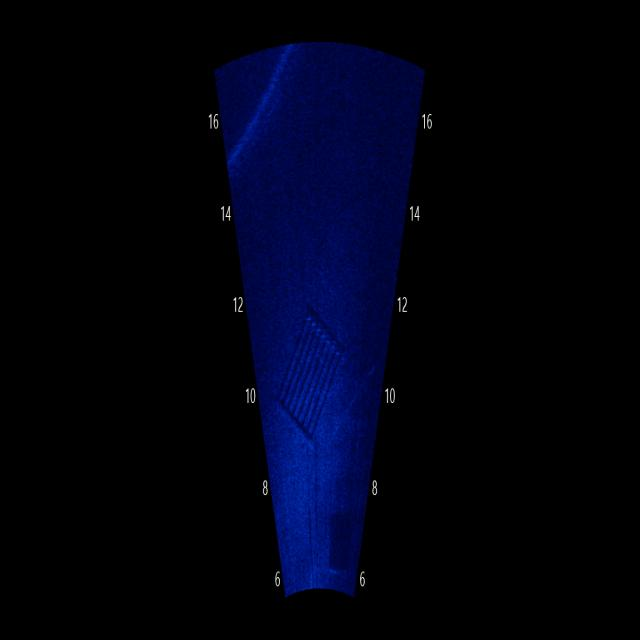square: (273, 260, 357, 469)
